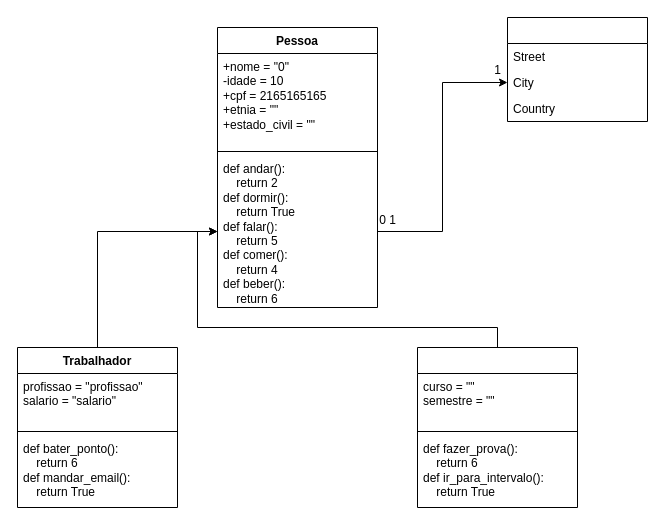
Some shapes in this 665 by 528 pixel diagram are drawn without their labels. The box of each missing label's shape, as (x1, y1, x2, y2) in pixels:
Endereço: (506, 16, 648, 122)
Estudante: (416, 346, 578, 508)
